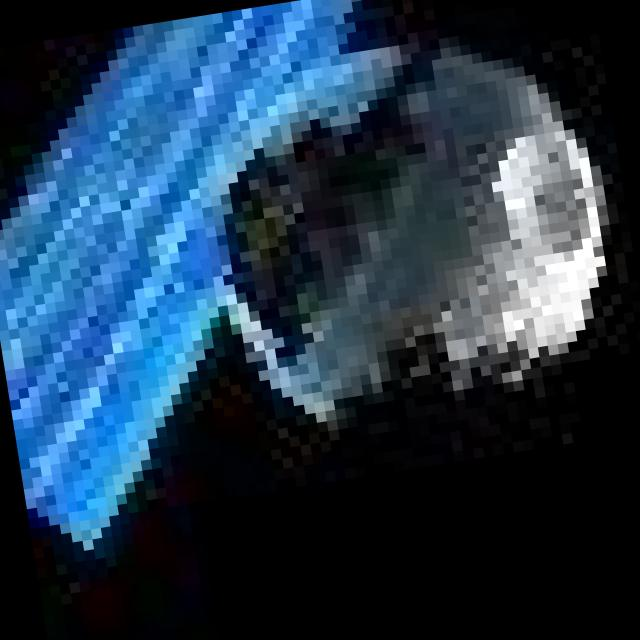Death Star: (177, 22, 613, 432)
